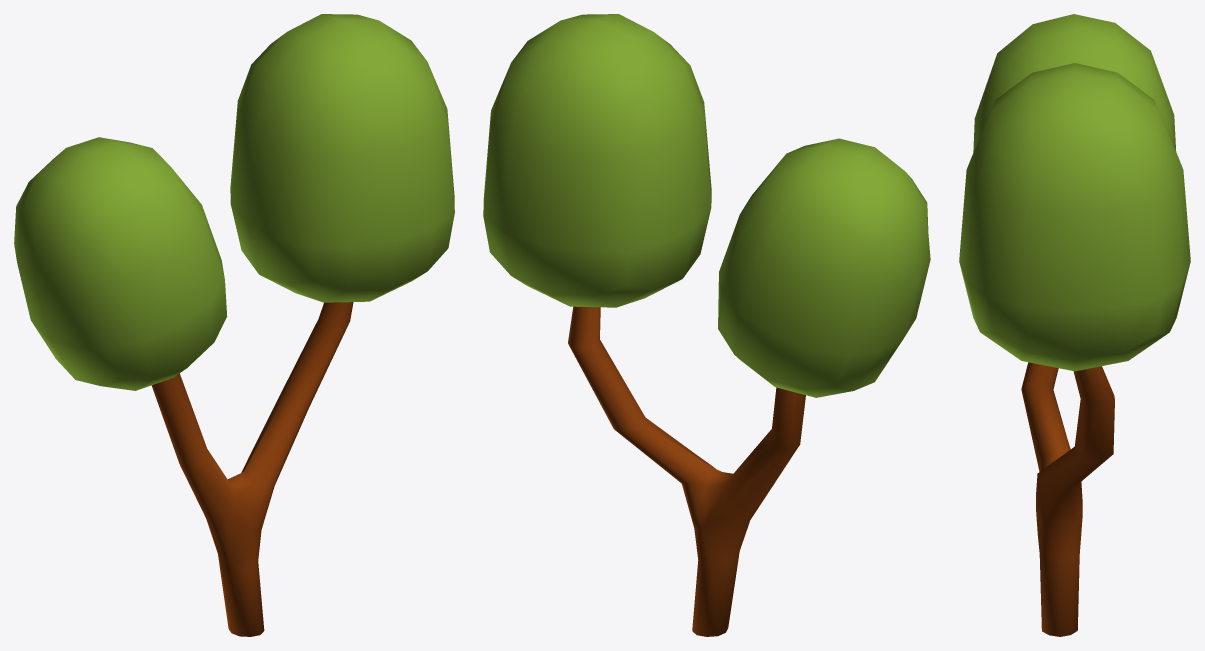
File: Tree_27_Spring.fbx
3 views of the same model, side by side, from view 1: azimuth 30°, elevation 25°; view 2: azimuth 150°, elevation 25°; view 3: azimuth 270°, elevation 25° (orthographic). The views are drawn at different scales.
Visible parts, largest first — view 1: Tree_27_p2_Spring, Tree_27_p1_Spring; view 2: Tree_27_p2_Spring, Tree_27_p1_Spring; view 3: Tree_27_p2_Spring, Tree_27_p1_Spring.
Boxes of the visible parts, <box> form: Tree_27_p2_Spring: <box>14,14,454,390</box>; Tree_27_p1_Spring: <box>151,302,353,636</box>; Tree_27_p2_Spring: <box>483,14,930,397</box>; Tree_27_p1_Spring: <box>568,306,805,636</box>; Tree_27_p2_Spring: <box>959,14,1190,371</box>; Tree_27_p1_Spring: <box>1021,362,1114,636</box>.
Size of the model in its own units: 415 by 564 by 194.
